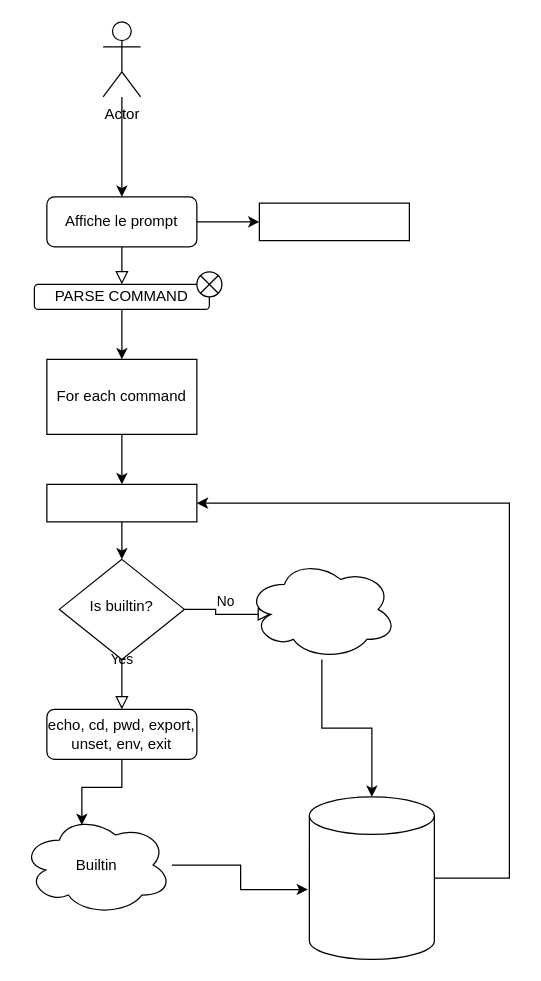
Image size: 541x981. Some labels were removed from this diagram. Each missing label, with the box of its shape:
EXEC: (246, 558, 397, 659)
getcwd: (258, 202, 409, 241)
output stdout stderr: (308, 796, 434, 959)
stdin: (46, 483, 197, 522)
